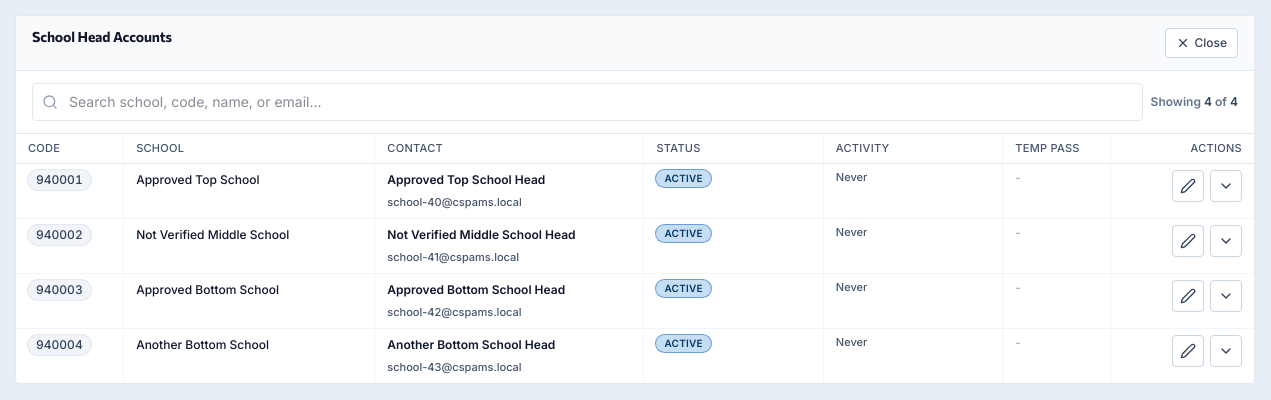
Test: MonitorSchoolHeadAccountsPanel › keeps remove-account-and-school reachable for lower active rows by opening their menus upward
expect the row that starts with "Another Bottom School" is shown: met, box [16, 328, 1254, 383]
Click the button named "More actions" in the row of "Another Bottom School Head" at (1226, 351), box [1210, 335, 1242, 367]
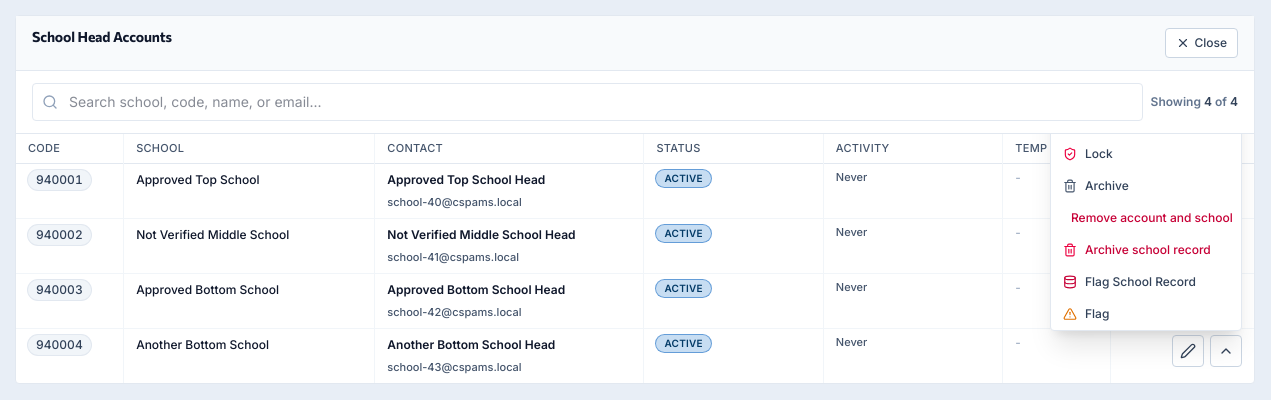
expect the button "Remove account and school" is shown: met, box [1051, 202, 1241, 234]
expect the element that starts with "Send Password Reset Link" is shown: met, box [1050, 134, 1242, 331]
